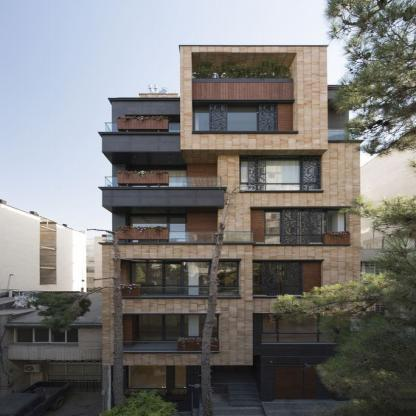Balcony: (105, 231, 251, 251), (111, 287, 239, 305), (105, 177, 221, 196), (116, 341, 219, 359), (105, 123, 181, 142)
Building Outline: (97, 45, 365, 416)
Door: (199, 356, 260, 384)
Facade: (97, 45, 366, 415)
Floor Slab: (102, 306, 363, 314), (103, 251, 362, 259), (105, 143, 360, 151), (103, 199, 358, 207)
Glass Wall: (130, 263, 237, 295), (137, 315, 219, 342), (129, 169, 186, 207), (129, 216, 186, 252), (129, 119, 187, 150)
Window: (192, 52, 297, 132), (114, 259, 242, 296), (113, 314, 219, 351), (264, 209, 345, 244), (240, 158, 321, 190), (254, 259, 324, 296), (263, 313, 337, 343), (274, 366, 338, 400), (194, 107, 277, 131), (253, 261, 302, 296), (127, 365, 186, 389), (329, 129, 345, 140)
